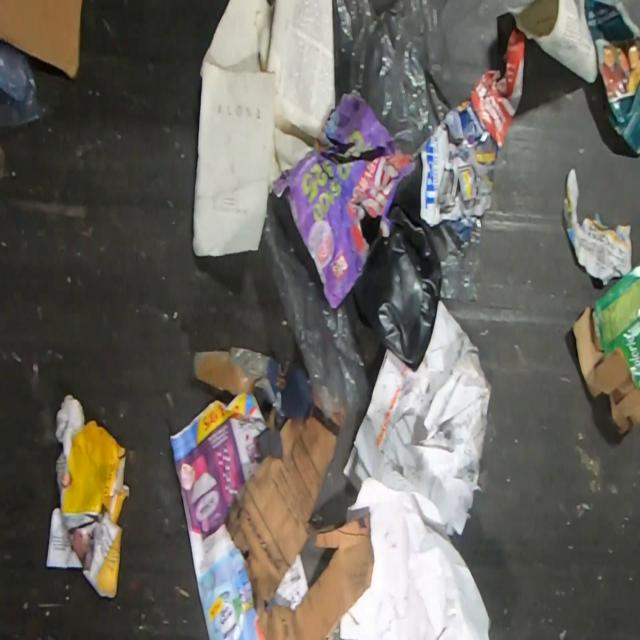cardboard: (230, 420, 374, 640), (46, 393, 130, 596), (568, 256, 640, 439), (193, 344, 318, 431)
rigid_plastic: (354, 211, 442, 371), (0, 41, 48, 129)
soft_plastic: (261, 191, 386, 424), (332, 0, 458, 153), (427, 224, 490, 304)
